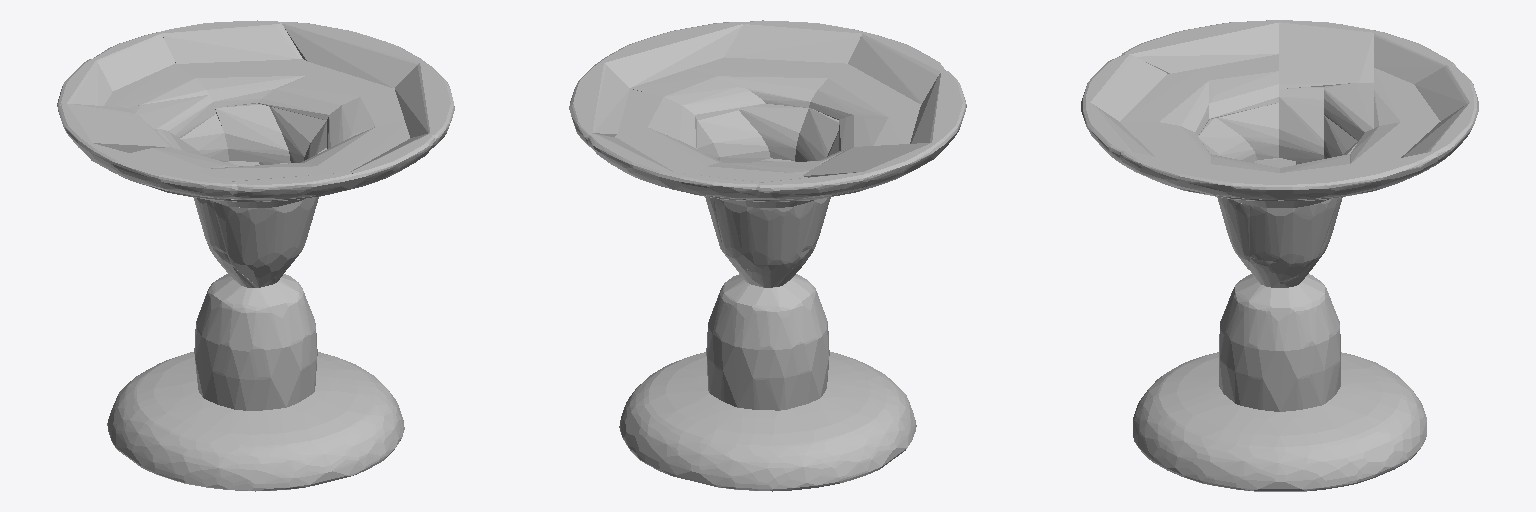
robot.urdf — root:
<?xml version="1.0"?>
<robot name="root">
  <link name="base_link">
    <visual>
      <origin xyz="0 0 0" rpy="0 0 0" />
      <geometry>
        <mesh filename="../meshes/unidex_sem_Vase-deaa26bac4809cdbe69433742d227857_006.obj" scale="1.0000E+00 1.0000E+00 1.0000E+00" />
      </geometry>
      <material name="">
        <color rgba="7.50E-01 7.50E-01 7.50E-01 1" />
      </material>
    </visual>
    <collision>
      <origin xyz="0 0 0" rpy="0 0 0" />
      <geometry>
        <mesh filename="../meshes/unidex_sem_Vase-deaa26bac4809cdbe69433742d227857_006.obj" scale="1.0000E+00 1.0000E+00 1.0000E+00" />
      </geometry>
    </collision>
  </link>
</robot>

--- Render facts (derived) ---
3 views of the same robot in one strip: view 1: azimuth 30°, elevation 25°; view 2: azimuth 150°, elevation 25°; view 3: azimuth 270°, elevation 25° (orthographic).
Model root with 1 links and 0 joints (none), rooted at base_link, posed all joints at 0.
Links seen in each view (by area): view 1: base_link; view 2: base_link; view 3: base_link.
Boxes of the visible links, <box> form: base_link: <box>57,20,454,491</box>; base_link: <box>569,20,966,491</box>; base_link: <box>1081,20,1478,491</box>.
Bounding box of the posed robot: 0.0874 × 0.0874 × 0.0798 m (x, y, z).
1 mesh visuals loaded from 1 distinct referenced files (1 OBJ).
